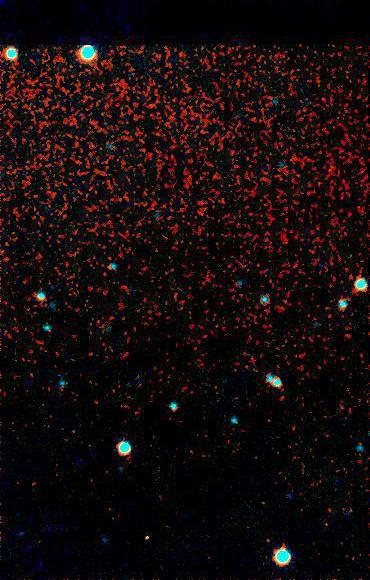star: (130, 531, 160, 561)
